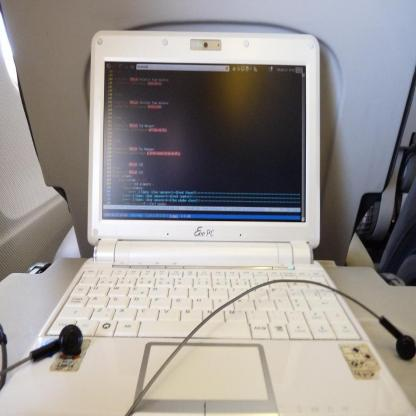board: (20, 99, 357, 376)
